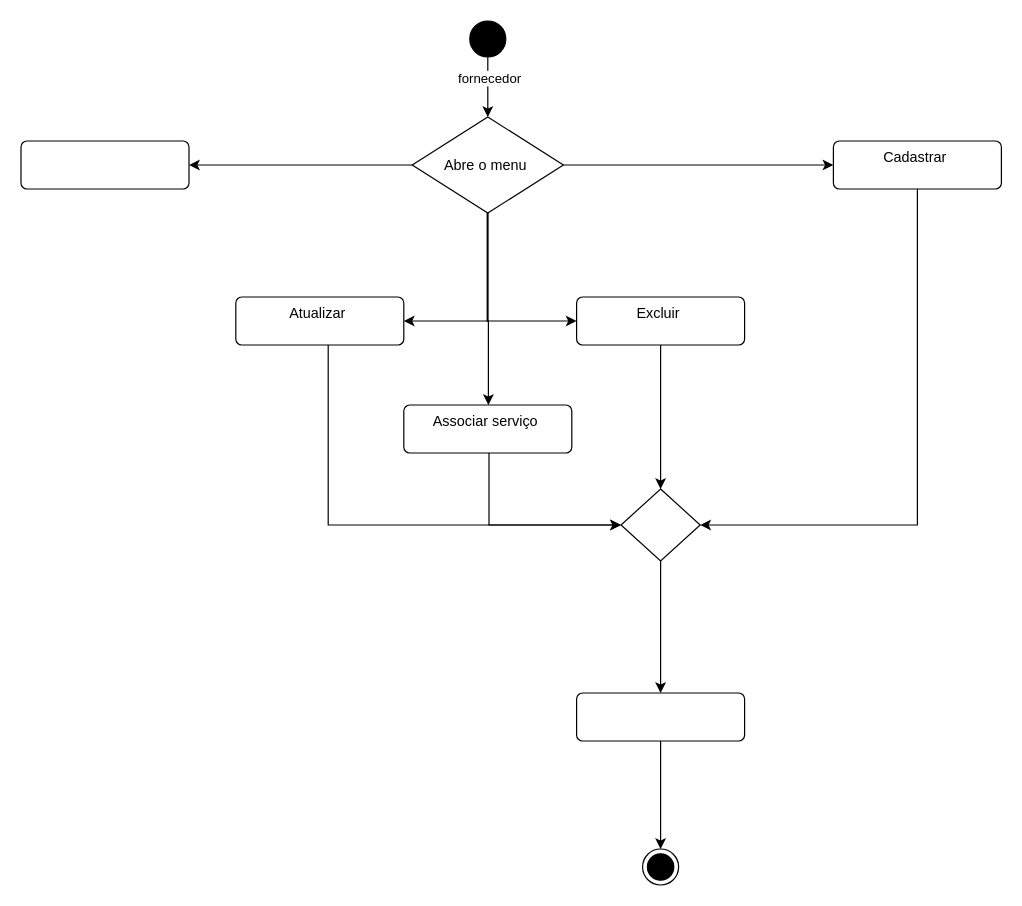
Image size: 1022x906. Some labels were removed from this diagram. The centre of each missing label's shape, as x and y in pixels:
"Inserir dados necessários" goes at point (660, 716).
"Visualizar" goes at point (104, 164).
